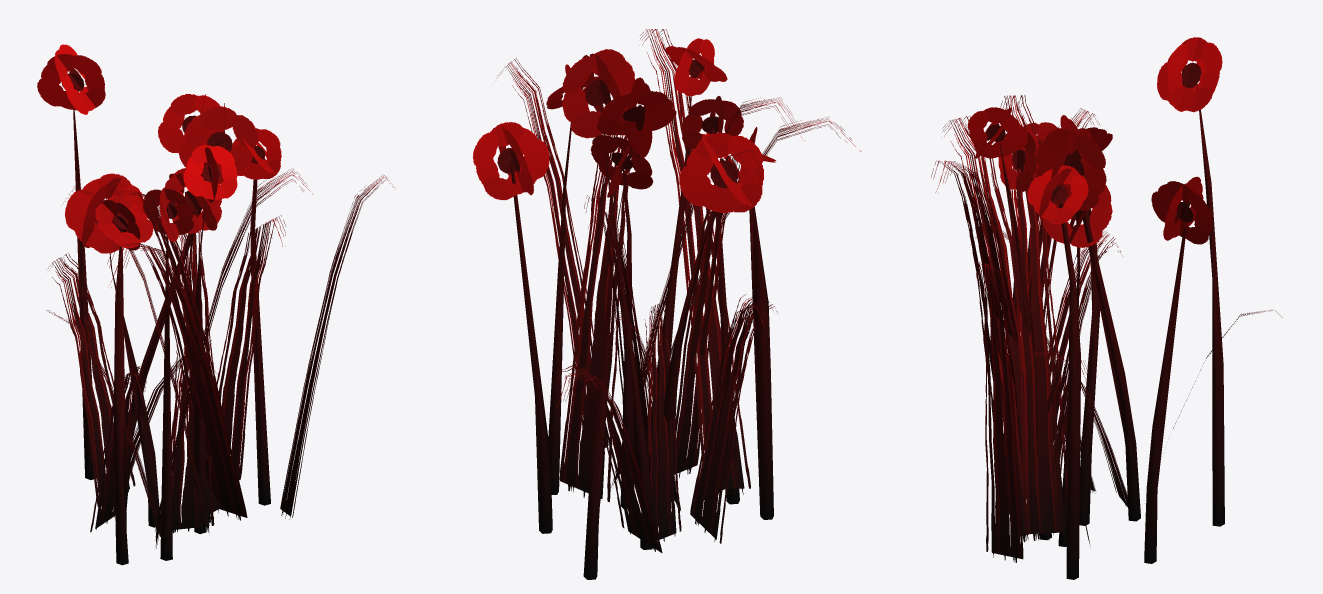
The model's file is plant_grassland_wildflower_a_lod2.glb.
3 views of the same model, side by side, from view 1: azimuth 30°, elevation 25°; view 2: azimuth 150°, elevation 25°; view 3: azimuth 270°, elevation 25° (orthographic). The views are drawn at different scales.
Parts seen in each view (by area): view 1: plant_grassland_wildflower_a; view 2: plant_grassland_wildflower_a; view 3: plant_grassland_wildflower_a.
Boxes of the visible parts, box(x1,y1,x2,y2) form: plant_grassland_wildflower_a: box(37, 44, 395, 565); plant_grassland_wildflower_a: box(473, 29, 861, 579); plant_grassland_wildflower_a: box(931, 37, 1282, 579).
Bounding box in the file's own units: 0.3621 × 0.4808 × 0.3474.
1 material, 1 textured.
